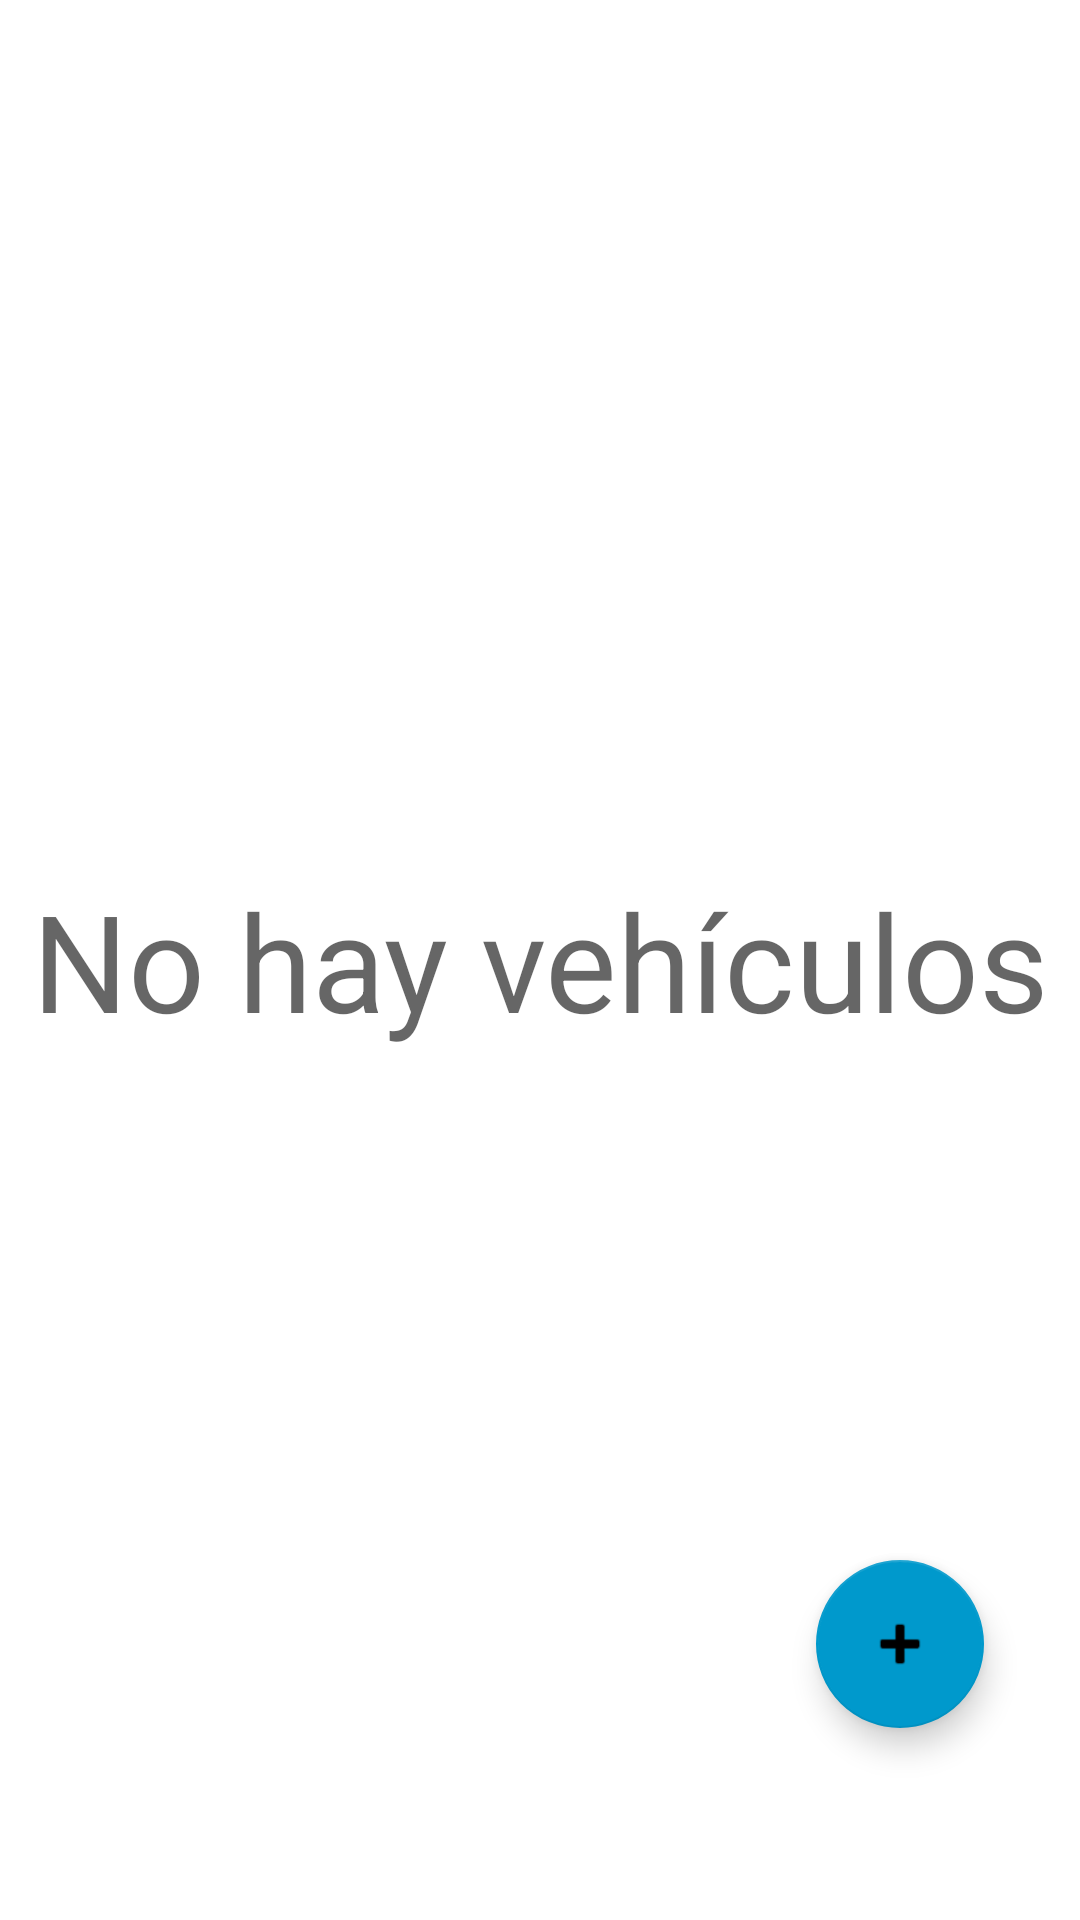

Icon bounding boxes for this 1080 × 1920 phone screenshot, format bbox(x1, y1, x2, y2):
Añadir vehículo: bbox(816, 1560, 984, 1728)
